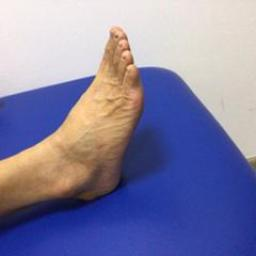Lateral View -Right Foot-: (23, 17, 157, 225)
